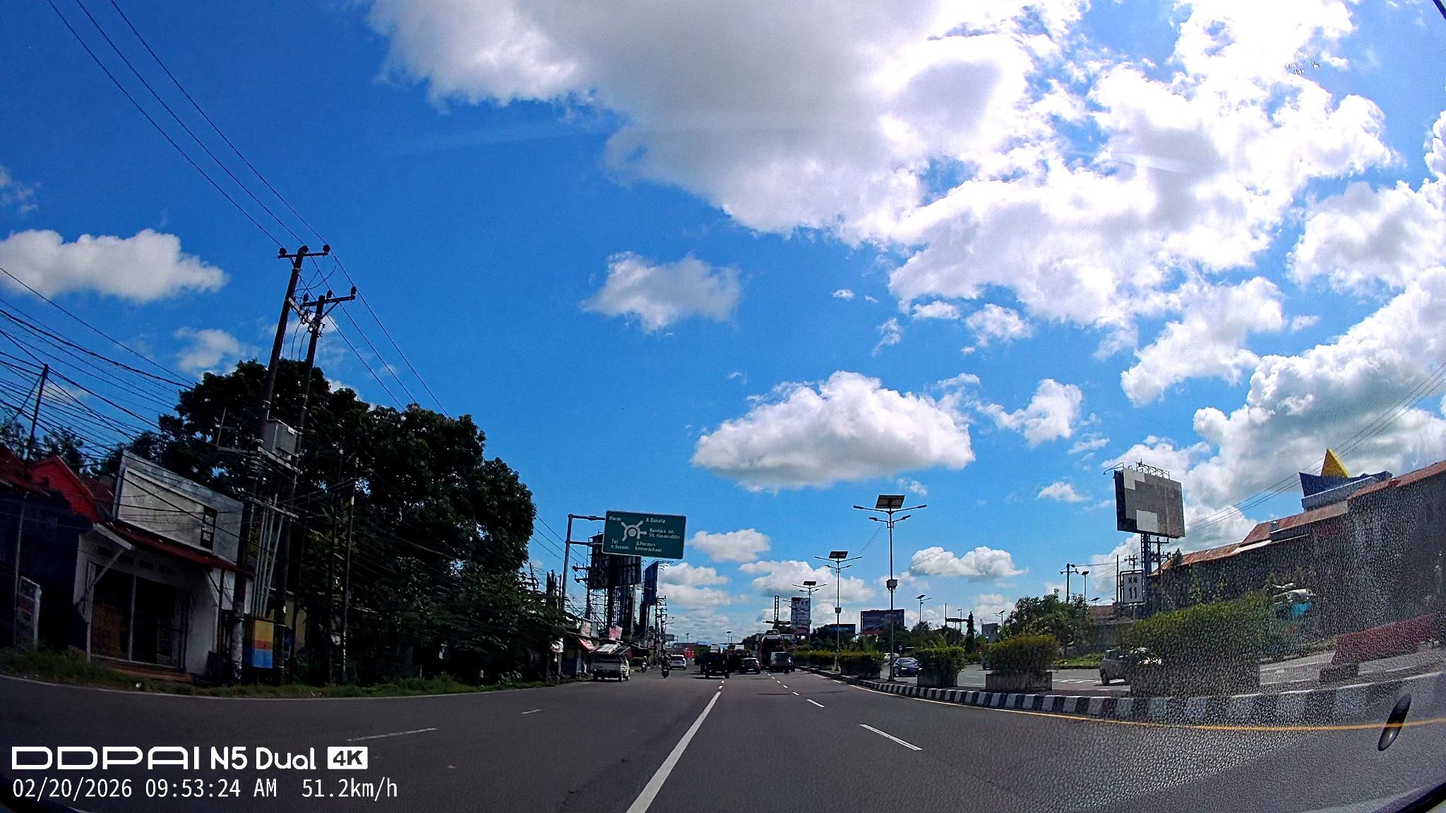rambu_teks: (601, 510, 687, 560)
